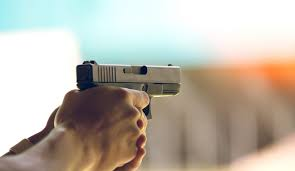gun: (71, 56, 182, 171)
